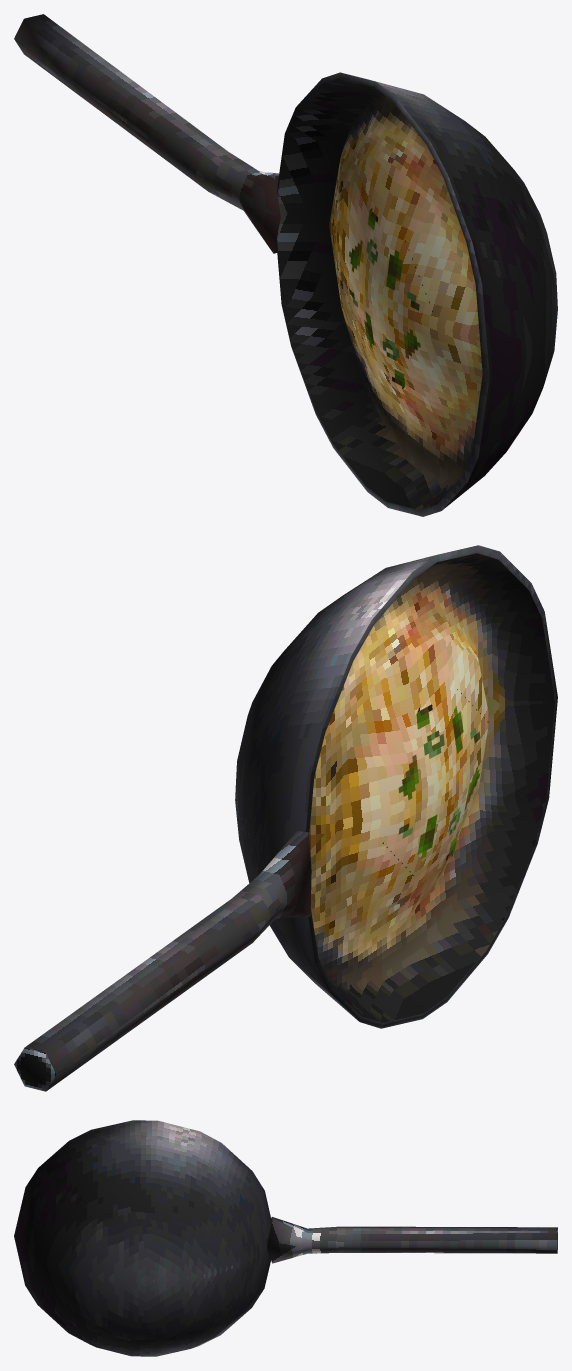
The picture shows the model from 3 angles, top to bottom: view 1: azimuth 30°, elevation 25°; view 2: azimuth 150°, elevation 25°; view 3: azimuth 270°, elevation 25°; orthographic projection. The views are drawn at different scales.
Visible parts, largest first — view 1: weapon/we366.pac; view 2: weapon/we366.pac; view 3: weapon/we366.pac.
Part boxes in pixels (x1,y1,x2,y2): weapon/we366.pac: (14, 14, 557, 516); weapon/we366.pac: (14, 545, 557, 1091); weapon/we366.pac: (14, 1120, 557, 1356).
Bounding box in the file's own units: 39.87 × 96.34 × 200.
2 materials, 2 textured.
